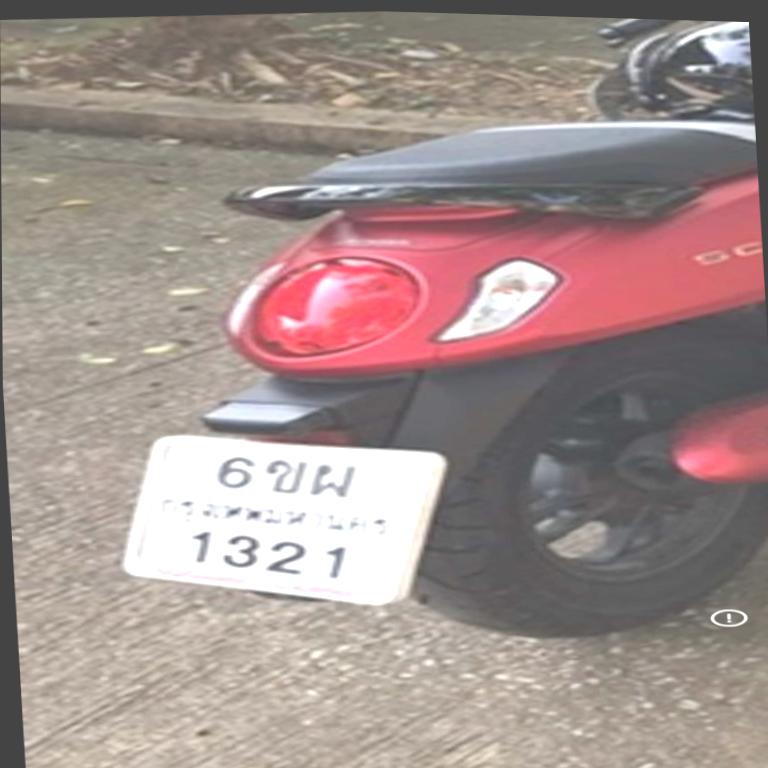license plate: (108, 419, 449, 623)
